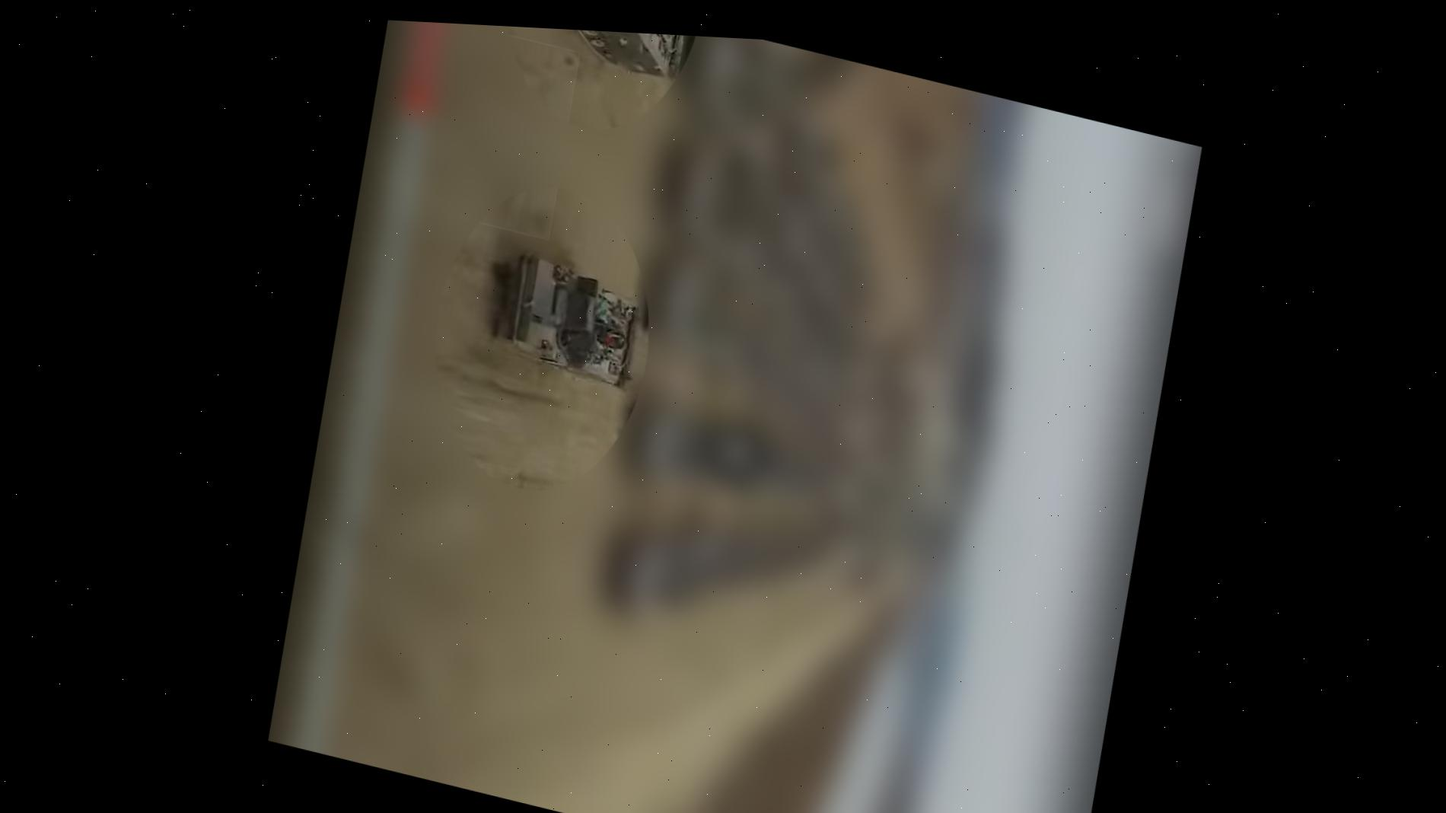armored_car: (473, 232, 659, 404), (510, 26, 697, 98)
